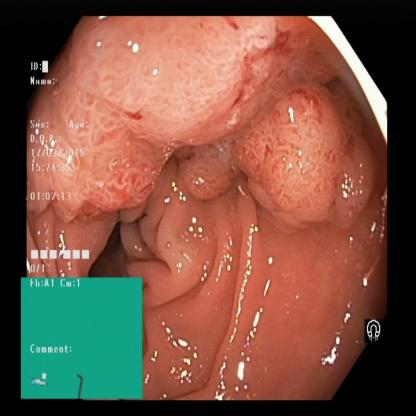Labels: (21, 278, 144, 401), (26, 56, 94, 275), (356, 310, 386, 343)
Polyps: (252, 108, 365, 226), (184, 149, 234, 199)
